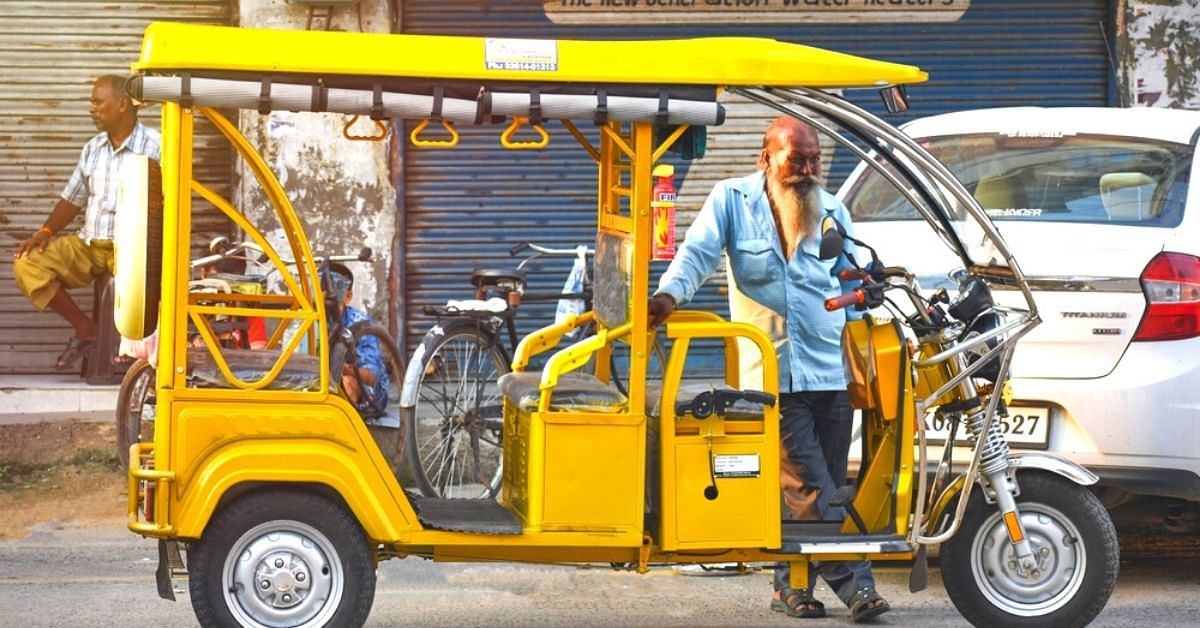car: (877, 96, 1200, 517)
rickshaw: (126, 12, 1122, 628)
